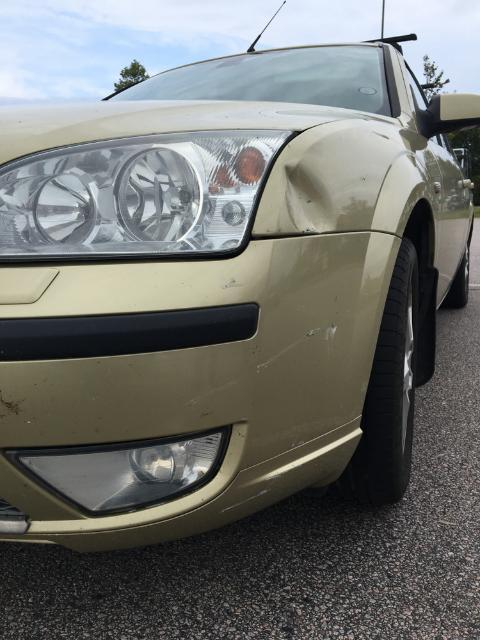dent: (285, 162, 336, 233)
scratch: (252, 322, 339, 376)
